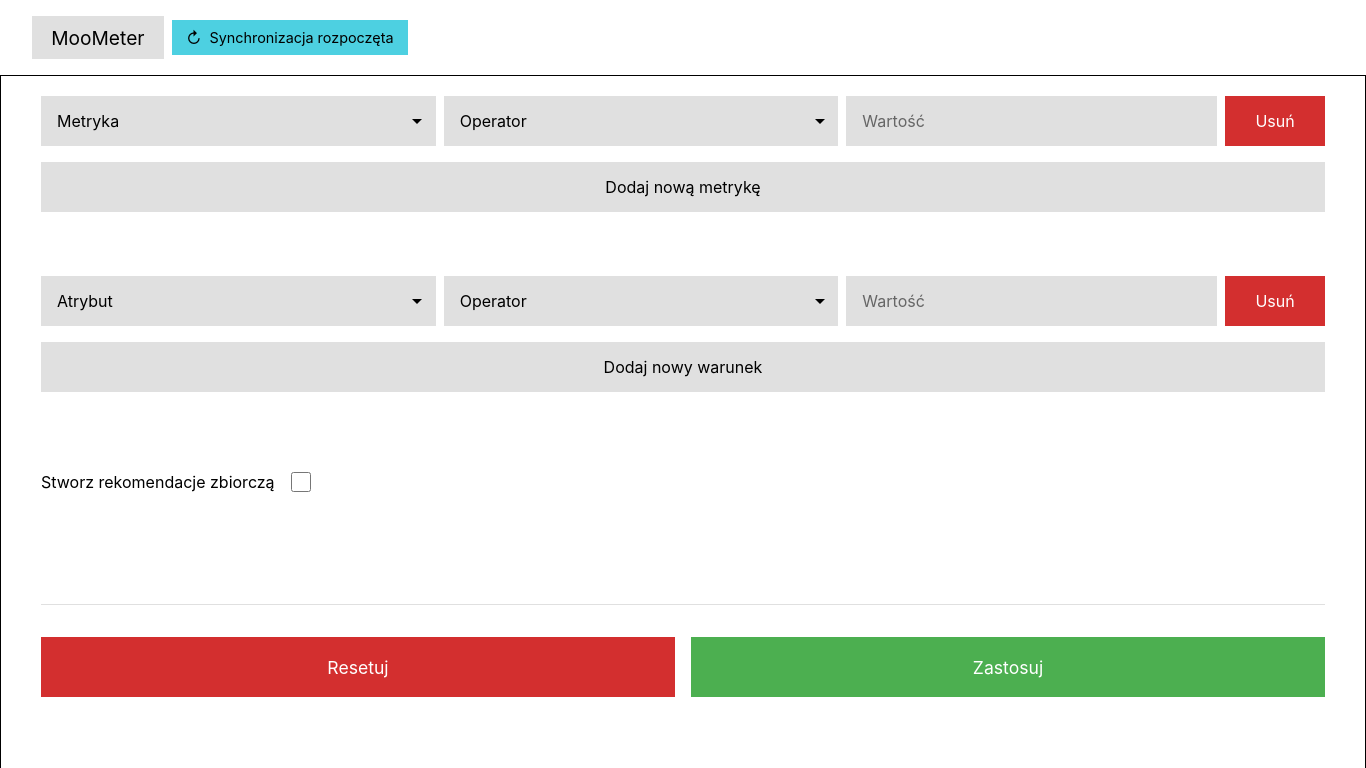
Test: AnalysisForm - Formularz analizy danych › powinien dodać nowy warunek po kliknięciu "Dodaj nowy warunek"
What coordinates should you click on to do the following:
click the button "Dodaj nowy warunek"
I would click on:
 (683, 367)
Its box is [41,342,1325,392].
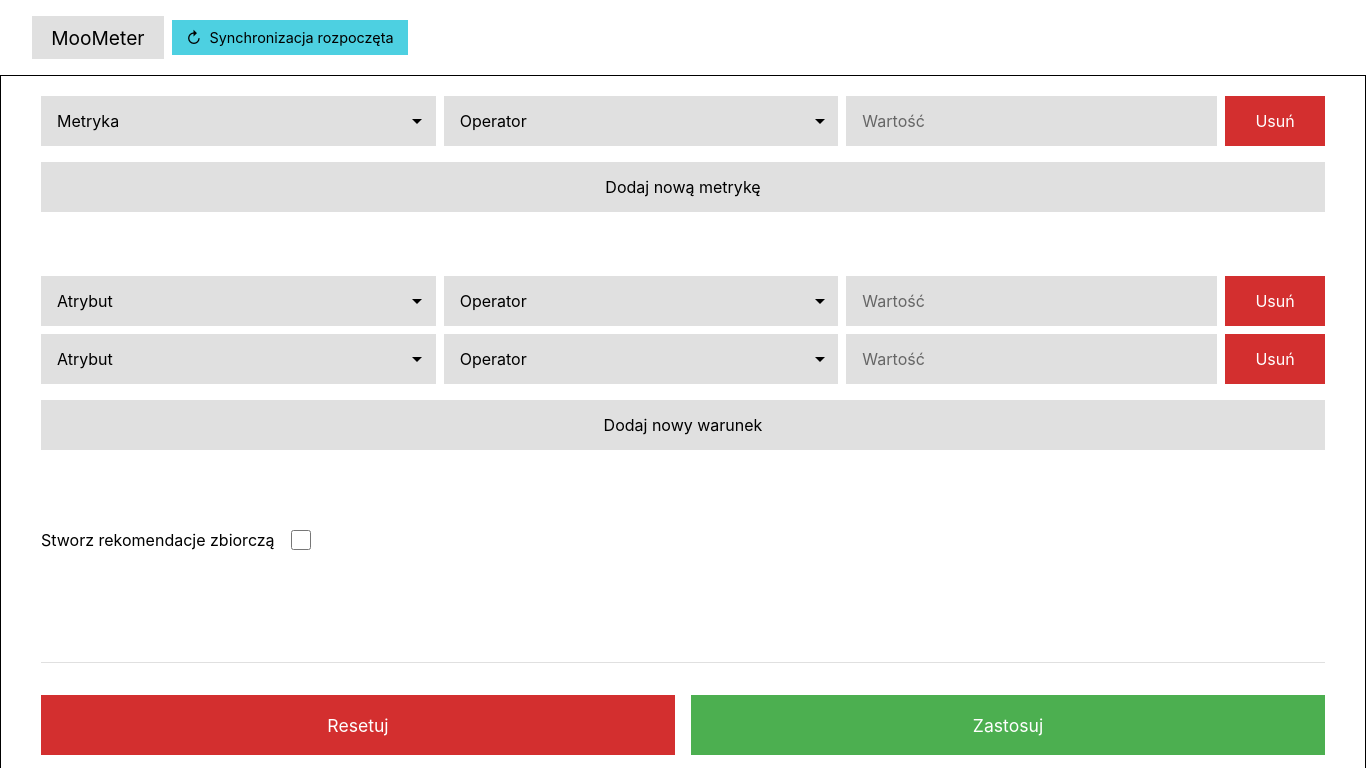
Now the number of buttons "Usuń" is 3, box [1225,96,1325,146]; [1225,276,1325,326]; [1225,334,1325,384]
